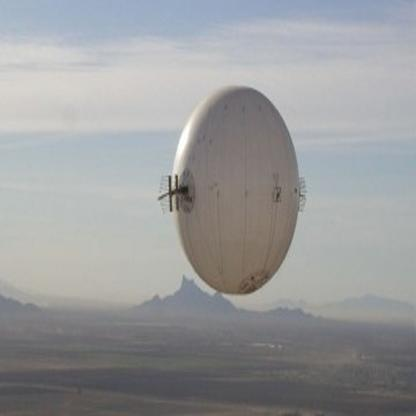Airship: (155, 80, 313, 303)
